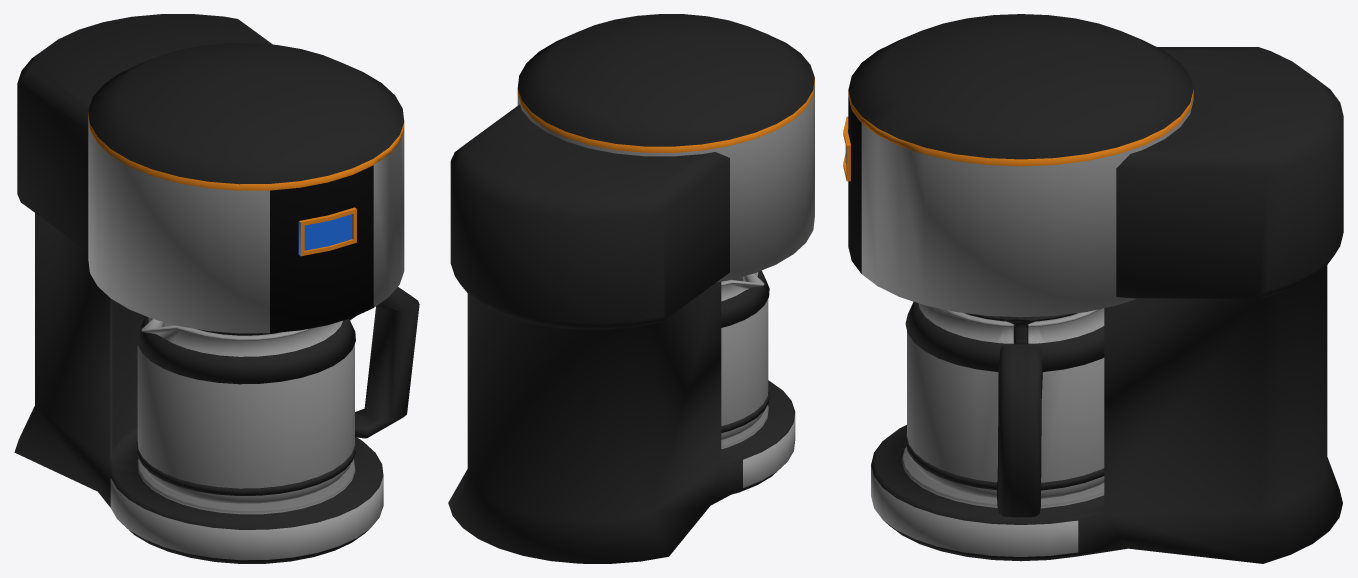
Rendered from CoffeeMaker.glb.
3 views of the same model, side by side, from view 1: azimuth 30°, elevation 25°; view 2: azimuth 150°, elevation 25°; view 3: azimuth 270°, elevation 25° (orthographic). The views are drawn at different scales.
Visible parts, largest first — view 1: CoffeeMaker, Jar; view 2: CoffeeMaker, Jar; view 3: CoffeeMaker, Jar, Top.
Boxes of the visible parts, x1=… form: CoffeeMaker: x1=14, y1=14, x2=404, y2=563; Jar: x1=136, y1=287, x2=419, y2=503; CoffeeMaker: x1=448, y1=14, x2=814, y2=563; Jar: x1=721, y1=270, x2=769, y2=439; CoffeeMaker: x1=843, y1=14, x2=1343, y2=563; Jar: x1=905, y1=301, x2=1104, y2=517; Top: x1=964, y1=313, x2=1077, y2=344.
Bounding box in the file's own units: 0.224 × 0.3 × 0.3027.
